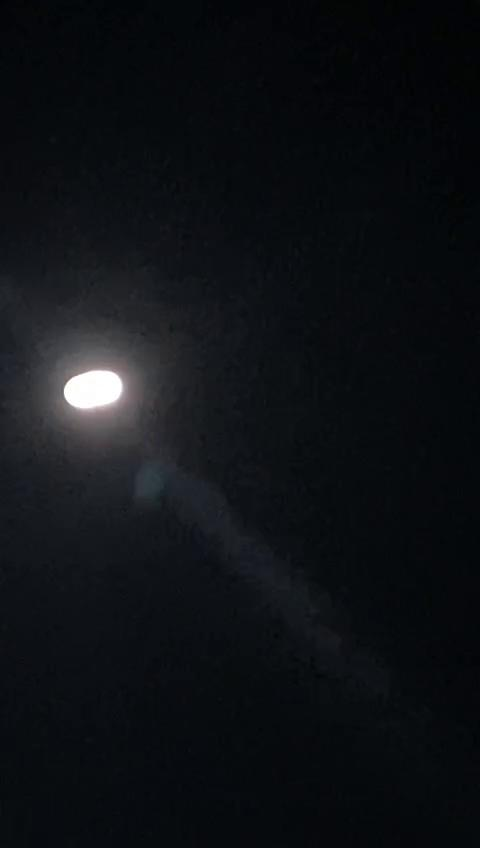moon: (59, 360, 127, 421)
